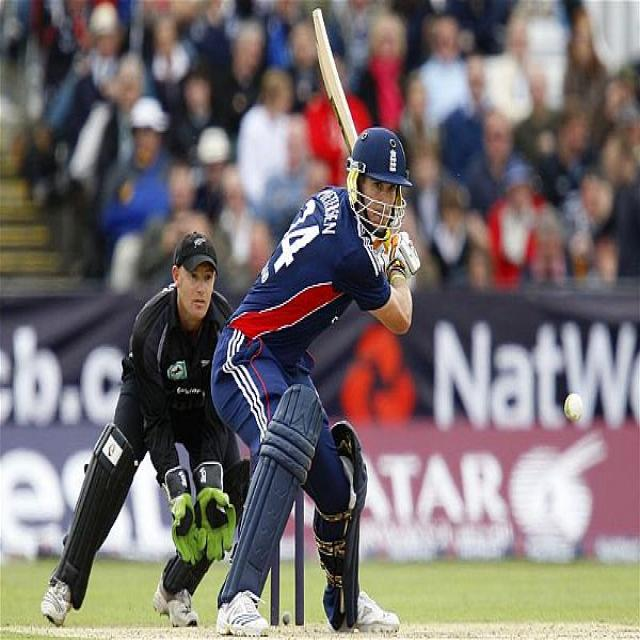stump: (269, 493, 307, 630)
